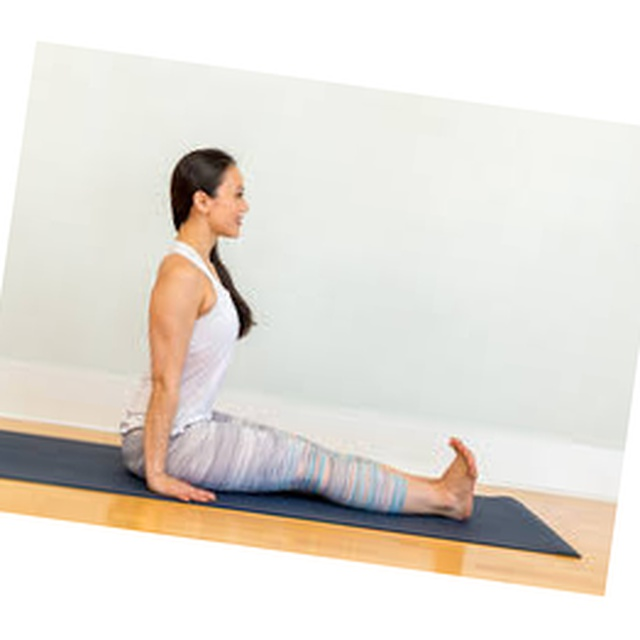Staff_Pose: (120, 147, 477, 521)
